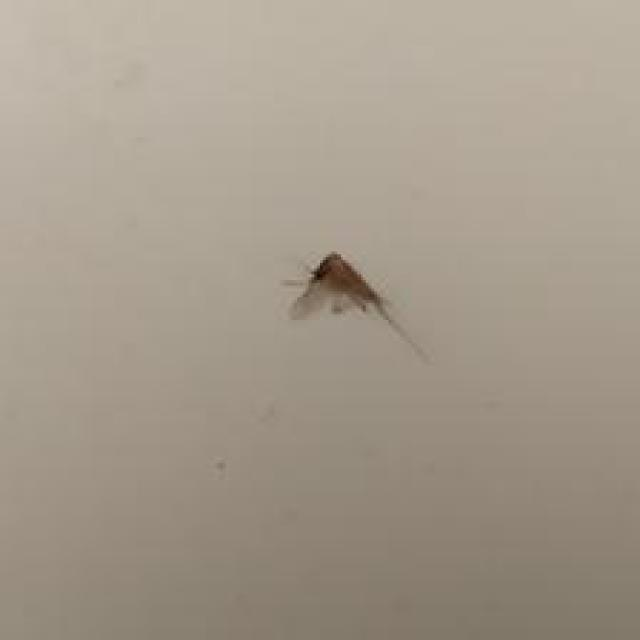Culex: (283, 250, 431, 367)
